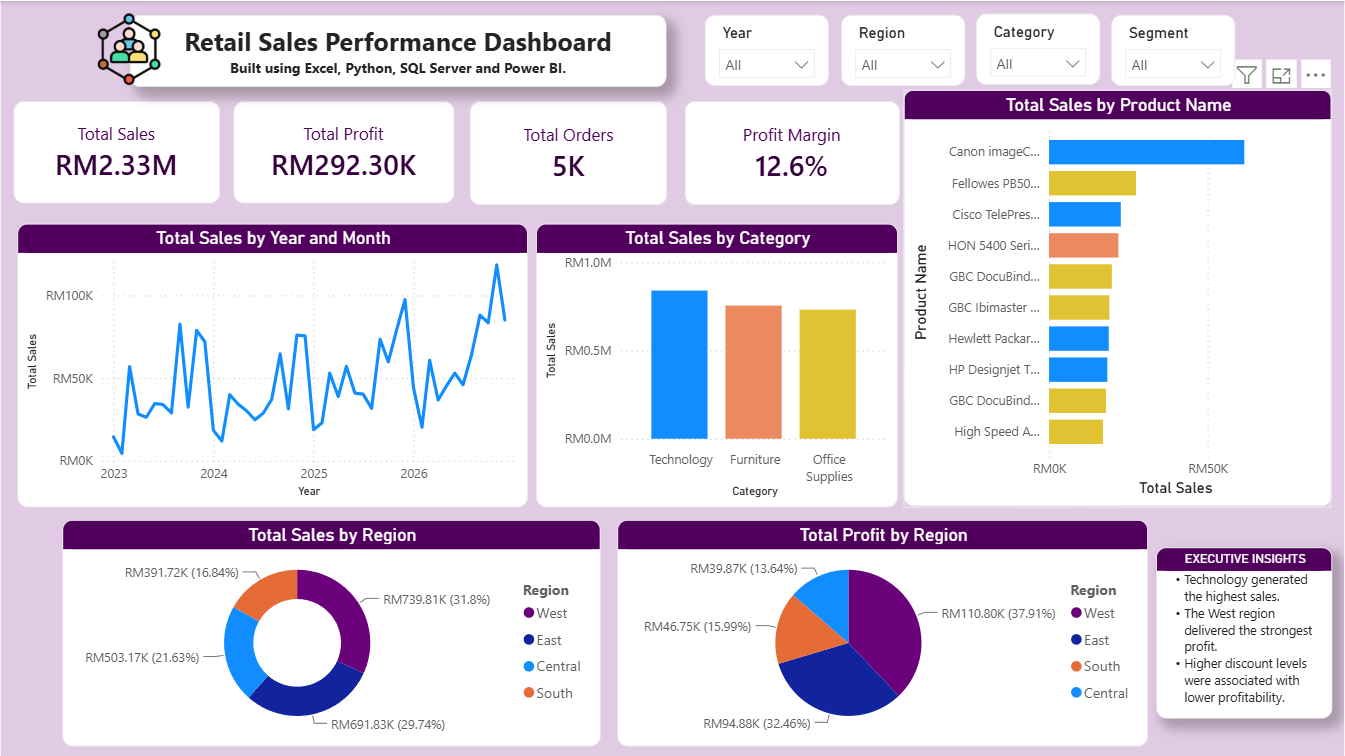

The page's visual inventory and layout, read from the dashboard file:
{"tool":"powerbi","page":{"name":"Page 1","canvas":[1280,720],"ordinal":0},"visuals":[{"type":"cardVisual","fields":{"Data":["Orders.Total Sales"]},"box":[11.9,95.2,196.4,97.6],"z":0},{"type":"cardVisual","fields":{"Data":["Orders.Total Profit"]},"box":[221.4,95.2,210.7,97.6],"z":1000},{"type":"cardVisual","fields":{"Data":["Orders.Total Orders"]},"box":[446.4,95.2,188.1,98.8],"z":2000},{"type":"cardVisual","fields":{"Data":["Orders.Profit Margin"]},"box":[651.2,95.2,204.8,98.8],"z":3000},{"type":"lineChart","fields":{"Y":["Orders.Total Sales"],"Category":["DateTable.Date.Variation.Date Hierarchy.Year","DateTable.Date.Variation.Date Hierarchy.Month"]},"box":[15,211.7,486.7,270],"z":4000},{"type":"donutChart","fields":{"Category":["Orders.Region"],"Y":["Orders.Total Sales"]},"box":[58.6,494.3,512.9,215.7],"z":5000},{"type":"barChart","fields":{"Y":["Orders.Total Sales"],"Category":["Orders.Product Name"]},"box":[860,85,408.3,396.7],"z":6000},{"type":"clusteredColumnChart","fields":{"Y":["Orders.Total Sales"],"Category":["Orders.Category"]},"box":[510,211.7,345,270],"z":7000},{"type":"slicer","fields":{"Values":["DateTable.Date.Variation.Date Hierarchy.Year"]},"box":[670,13.3,118.3,68.3],"z":8000},{"type":"textbox","box":[122.9,12.9,511.4,68.6],"z":9000},{"type":"pieChart","fields":{"Category":["Orders.Region"],"Y":["Orders.Total Profit"]},"box":[587.1,494.3,505.7,215.7],"z":10000},{"type":"slicer","fields":{"Values":["Orders.Region"]},"box":[800,13.3,118.3,68.3],"z":11000},{"type":"slicer","fields":{"Values":["Orders.Category"]},"box":[928.3,12.5,118.3,68.3],"z":11001},{"type":"slicer","fields":{"Values":["Orders.Segment"]},"box":[1056.7,13.3,118.3,68.3],"z":11002},{"type":"image","box":[77.8,11.1,90,70],"z":11003},{"type":"textbox","title":"EXECUTIVE INSIGHTS","box":[1100,520,168.3,163.3],"z":11004}]}

Visuals, with their boxes in screenshot pixels (x1, y1, x2, y2), scaled from the page's 1280x720 canvas onto the 1345x756 screenshot:
cardVisual - Orders.Total Sales: (x1=13, y1=100, x2=219, y2=202)
cardVisual - Orders.Total Profit: (x1=233, y1=100, x2=454, y2=202)
cardVisual - Orders.Total Orders: (x1=469, y1=100, x2=667, y2=204)
cardVisual - Orders.Profit Margin: (x1=684, y1=100, x2=899, y2=204)
lineChart - Orders.Total Sales x DateTable.Date.Variation.Date Hierarchy.Year: (x1=16, y1=222, x2=527, y2=506)
donutChart - Orders.Region x Orders.Total Sales: (x1=62, y1=519, x2=601, y2=746)
barChart - Orders.Total Sales x Orders.Product Name: (x1=904, y1=89, x2=1333, y2=506)
clusteredColumnChart - Orders.Total Sales x Orders.Category: (x1=536, y1=222, x2=898, y2=506)
slicer - DateTable.Date.Variation.Date Hierarchy.Year: (x1=704, y1=14, x2=828, y2=86)
textbox: (x1=129, y1=14, x2=667, y2=86)
pieChart - Orders.Region x Orders.Total Profit: (x1=617, y1=519, x2=1148, y2=746)
slicer - Orders.Region: (x1=841, y1=14, x2=965, y2=86)
slicer - Orders.Category: (x1=975, y1=13, x2=1100, y2=85)
slicer - Orders.Segment: (x1=1110, y1=14, x2=1235, y2=86)
image: (x1=82, y1=12, x2=176, y2=85)
"EXECUTIVE INSIGHTS" textbox: (x1=1156, y1=546, x2=1333, y2=717)
